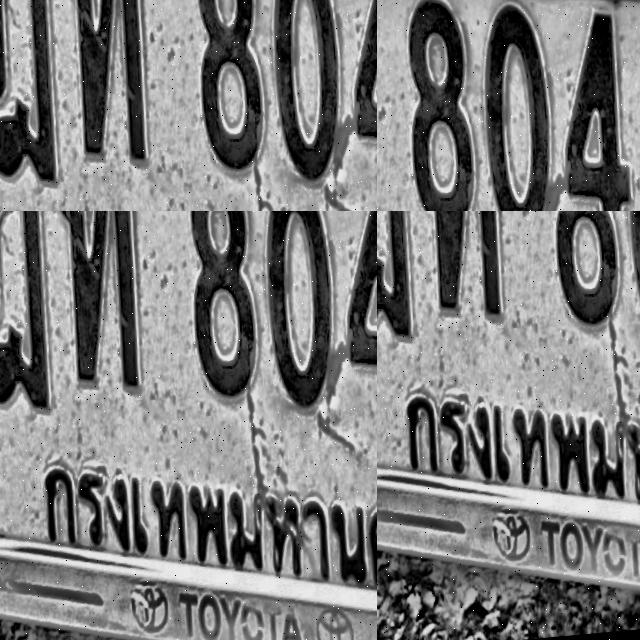license-plate: (377, 211, 640, 640)
